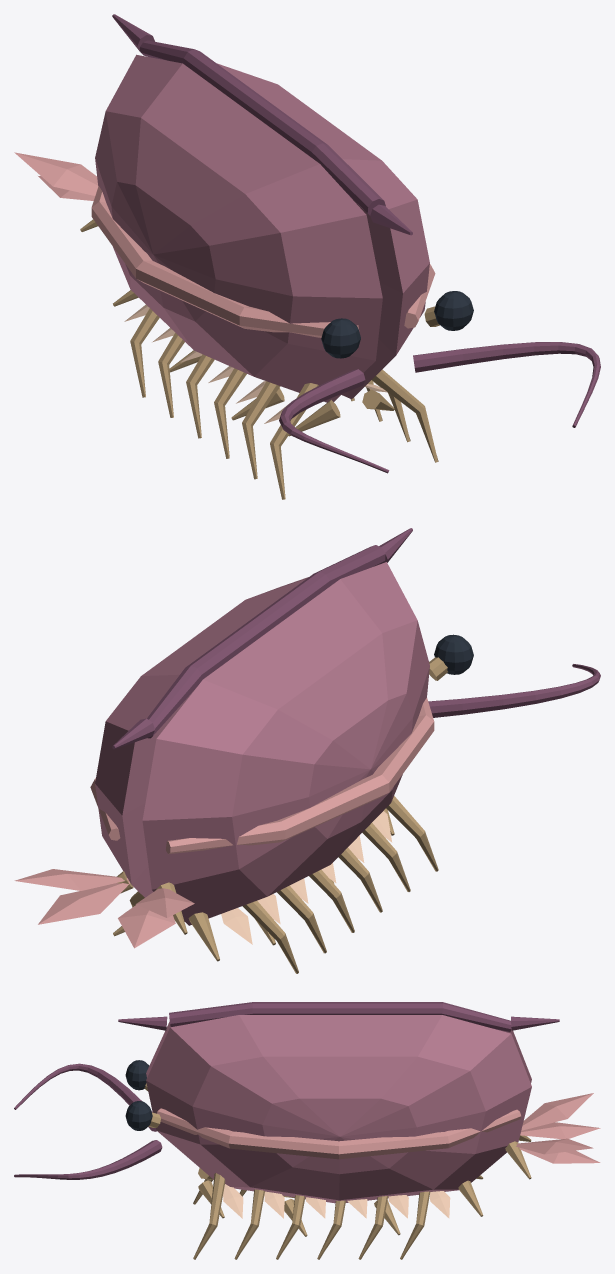
The model's file is tuzoia.glb.
The picture shows the model from 3 angles, top to bottom: view 1: azimuth 30°, elevation 25°; view 2: azimuth 150°, elevation 25°; view 3: azimuth 270°, elevation 25°; orthographic projection. The views are drawn at different scales.
Parts seen in each view (by area): view 1: left-deep-valve, right-deep-valve, straight-dorsal-hinge, left-lateral-keel, right-antenna, left-antenna, left-caudal-fan-1, left-eye, right-eye, right-walking-0, left-walking-1, left-walking-2 (+5 smaller); view 2: left-deep-valve, right-deep-valve, left-lateral-keel, straight-dorsal-hinge, left-antenna, right-caudal-fan-0, right-caudal-fan-1, left-caudal-fan-0, left-eye, left-caudal-fan-1, left-walking-5, left-walking-0 (+7 smaller); view 3: right-deep-valve, right-lateral-keel, straight-dorsal-hinge, right-antenna, left-caudal-fan-1, left-antenna, left-caudal-fan-0, right-walking-0, right-caudal-fan-1, right-eye, right-caudal-fan-0, right-walking-1 (+13 smaller).
Part boxes in pixels (x1,y1,x2,y2): left-deep-valve: [95, 54, 382, 402]; right-deep-valve: [217, 63, 429, 399]; straight-dorsal-hinge: [139, 40, 385, 215]; left-lateral-keel: [91, 186, 359, 337]; right-antenna: [413, 342, 600, 427]; left-antenna: [279, 369, 389, 473]; left-caudal-fan-1: [14, 152, 98, 195]; left-eye: [321, 318, 360, 358]; right-eye: [434, 291, 473, 330]; right-walking-0: [371, 369, 438, 462]; left-walking-1: [242, 381, 280, 479]; left-walking-2: [214, 368, 246, 458]; left-deep-valve: [142, 562, 429, 925]; right-deep-valve: [95, 577, 308, 897]; left-lateral-keel: [166, 698, 434, 854]; straight-dorsal-hinge: [147, 545, 385, 738]; left-antenna: [428, 664, 600, 717]; right-caudal-fan-0: [38, 880, 129, 924]; right-caudal-fan-1: [14, 869, 128, 890]; left-caudal-fan-0: [118, 905, 175, 948]; left-eye: [434, 634, 473, 674]; left-caudal-fan-1: [135, 888, 194, 917]; left-walking-5: [242, 901, 298, 973]; left-walking-0: [386, 796, 438, 871]; right-deep-valve: [146, 1015, 531, 1203]; right-lateral-keel: [157, 1108, 521, 1159]; straight-dorsal-hinge: [169, 1002, 511, 1032]; right-antenna: [14, 1140, 162, 1179]; left-caudal-fan-1: [521, 1093, 593, 1130]; left-antenna: [14, 1063, 156, 1131]; left-caudal-fan-0: [520, 1122, 600, 1139]; right-walking-0: [193, 1173, 225, 1259]; right-caudal-fan-1: [516, 1138, 593, 1154]; right-eye: [125, 1101, 152, 1130]; right-caudal-fan-0: [519, 1148, 600, 1163]; right-walking-1: [234, 1189, 264, 1259].
Bounding box in the file's own units: 0.0694 × 0.066 × 0.1533.
